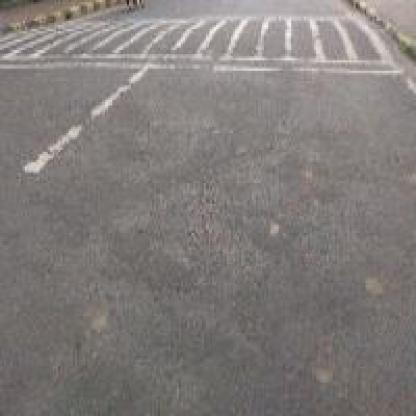Speed Bump: (0, 10, 408, 79)
